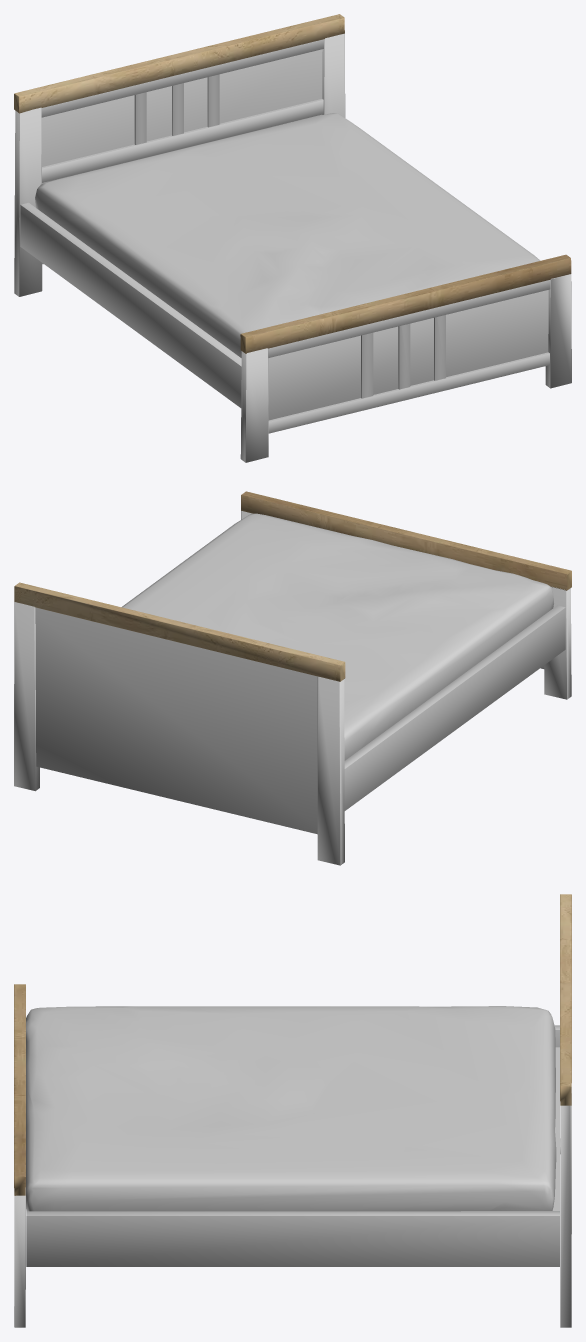
Rendered from abo-B07H93GTMN.glb.
The picture shows the model from 3 angles, top to bottom: view 1: azimuth 30°, elevation 25°; view 2: azimuth 150°, elevation 25°; view 3: azimuth 270°, elevation 25°; orthographic projection. The views are drawn at different scales.
Parts seen in each view (by area): view 1: RootNode; view 2: RootNode; view 3: RootNode.
Part boxes in pixels (x1=…): RootNode: x1=14, y1=14, x2=571, y2=462; RootNode: x1=14, y1=491, x2=571, y2=865; RootNode: x1=14, y1=894, x2=571, y2=1327.
Bounding box in the file's own units: 1.67 × 0.9798 × 2.05.
Materials: 1 (1 with a texture image).
